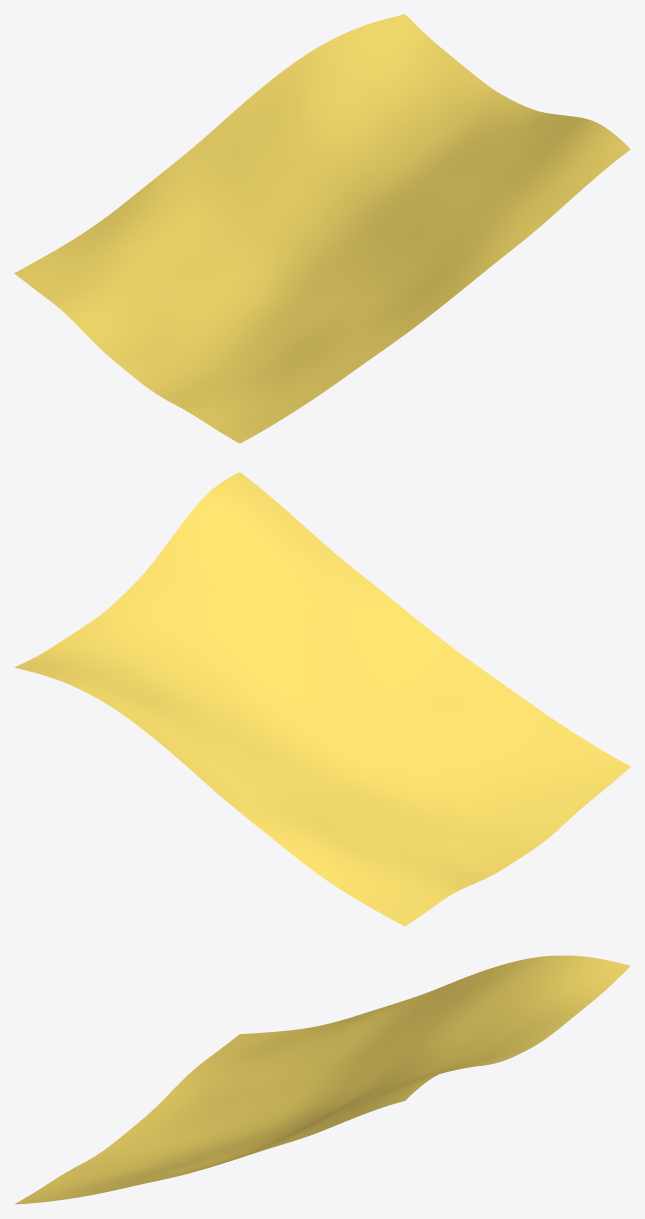
The model's file is TerrainMesh.fbx.
3 renders of one model, top to bottom at view 1: azimuth 30°, elevation 25°; view 2: azimuth 150°, elevation 25°; view 3: azimuth 330°, elevation 25°, orthographic.
Parts seen in each view (by area): view 1: TerrainDemo; view 2: TerrainDemo; view 3: TerrainDemo.
Part boxes in pixels (left/top/right/bottom): TerrainDemo: left=14, top=14, right=630, bottom=443; TerrainDemo: left=14, top=472, right=630, bottom=926; TerrainDemo: left=15, top=955, right=630, bottom=1204.
Size of the model in its own units: 9400 by 4909 by 9400.
